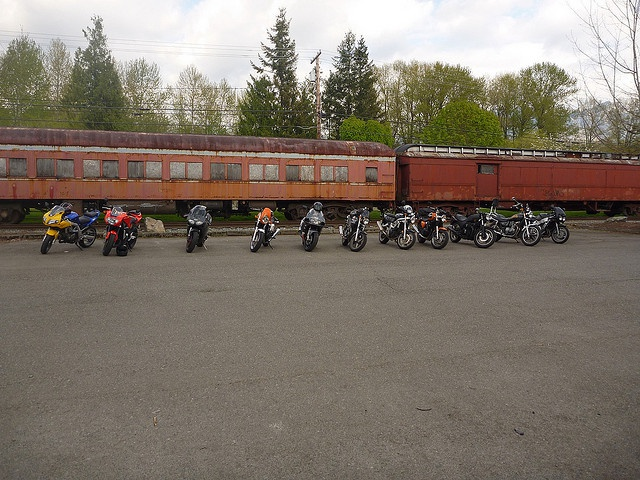non-vehicle: (42, 202, 97, 254), (490, 202, 542, 246), (451, 206, 499, 248), (101, 206, 141, 256), (379, 201, 416, 249), (338, 206, 370, 251), (536, 202, 569, 244), (184, 201, 211, 252), (419, 206, 448, 249), (251, 203, 276, 251), (300, 202, 324, 252)
